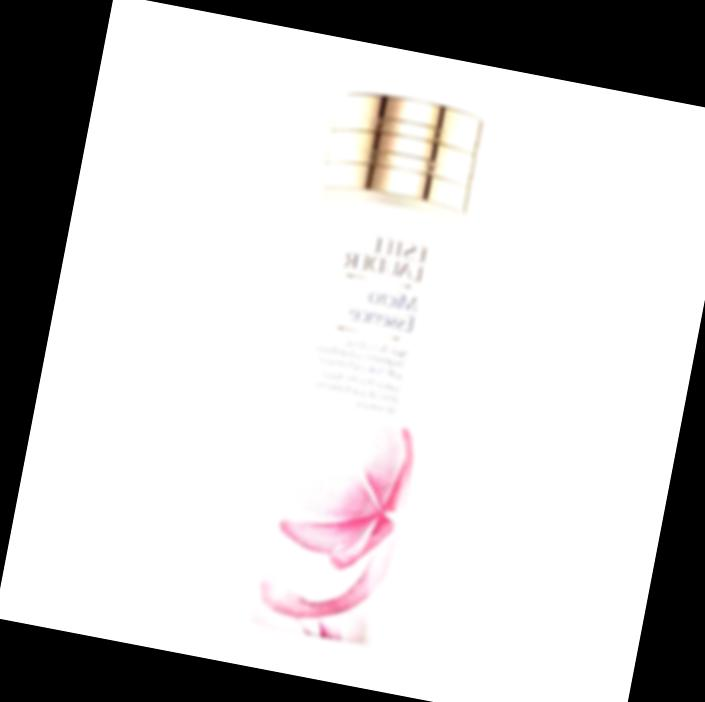cosmetic: (239, 91, 477, 648)
